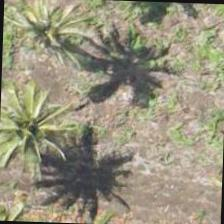Kelapa_Sawit: (1, 0, 93, 85), (0, 101, 59, 194)
